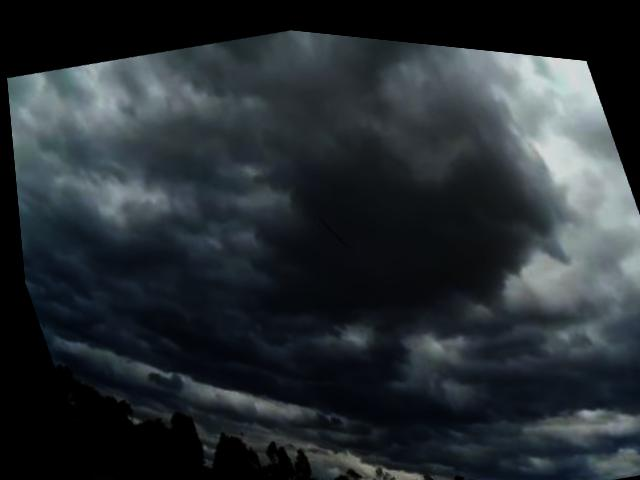uav: (305, 192, 355, 254)
